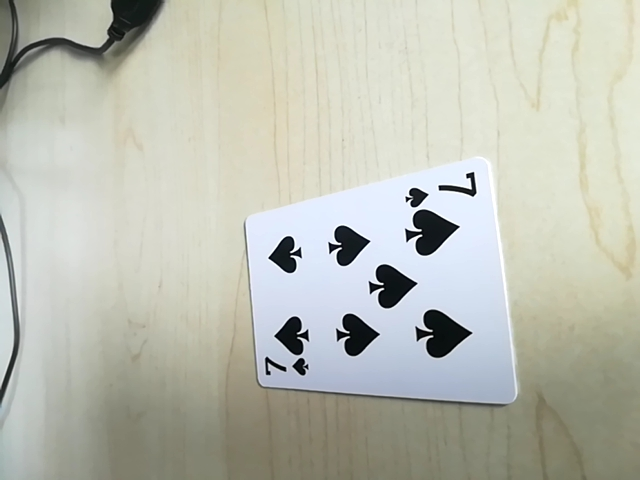ht 7: (405, 168, 484, 203), (255, 352, 313, 386)
